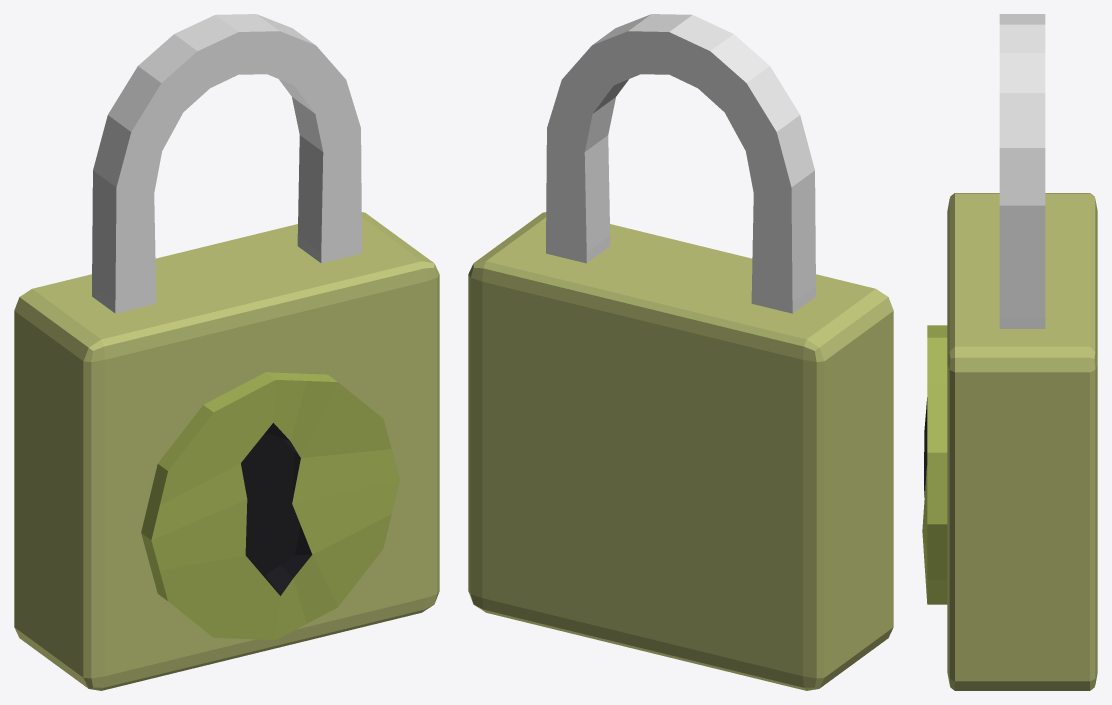
File: padlock.fbx
3 renders of one model, left to right at view 1: azimuth 30°, elevation 25°; view 2: azimuth 150°, elevation 25°; view 3: azimuth 270°, elevation 25°, orthographic. The views are drawn at different scales.
Visible parts, largest first — view 1: padlock base, key hole, lock yring; view 2: padlock base, lock yring; view 3: padlock base, lock yring, key hole.
Boxes of the visible parts, box(x1,y1,x2,y2) form: padlock base: box(14, 212, 439, 690); key hole: box(141, 372, 399, 639); lock yring: box(92, 14, 361, 313); padlock base: box(468, 212, 893, 690); lock yring: box(546, 14, 815, 313); padlock base: box(947, 193, 1097, 690); lock yring: box(999, 14, 1045, 328); key hole: box(922, 325, 947, 604).
Bounding box in the file's own units: 63.28 × 102 × 27.61.
